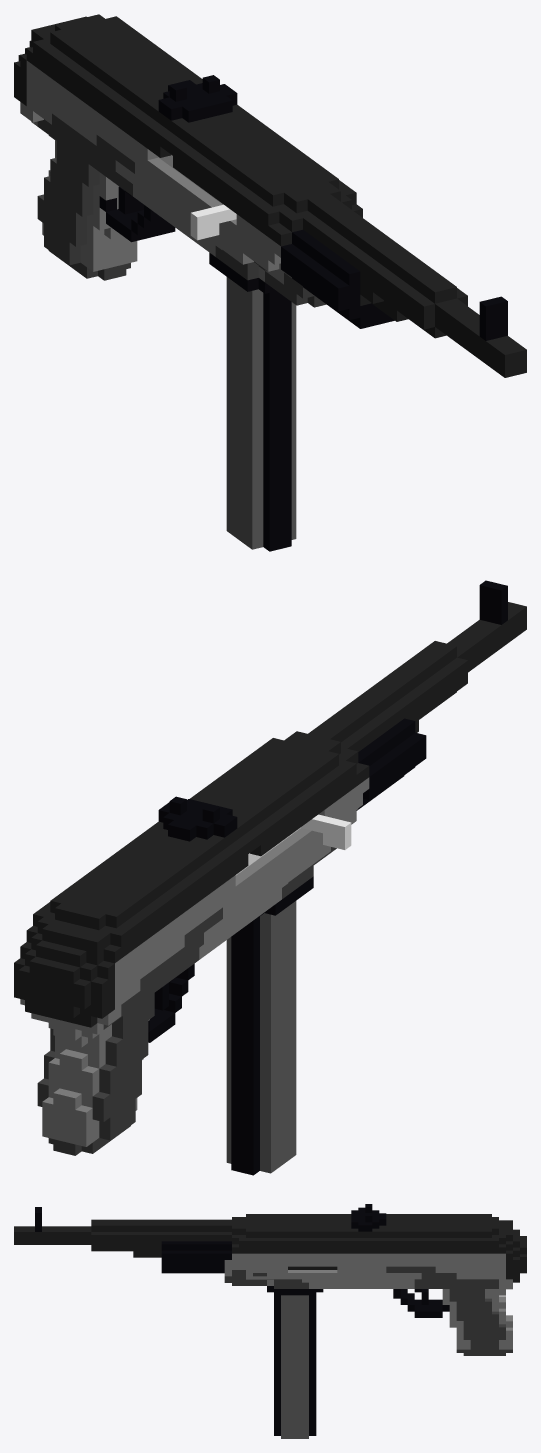
The model's file is Пистолет-пулемет.obj.
The picture shows the model from 3 angles, top to bottom: view 1: azimuth 30°, elevation 25°; view 2: azimuth 150°, elevation 25°; view 3: azimuth 270°, elevation 25°; orthographic projection. The views are drawn at different scales.
Size of the model in its own units: 1.1 by 3.5 by 7.3.
1 material, 1 textured.
